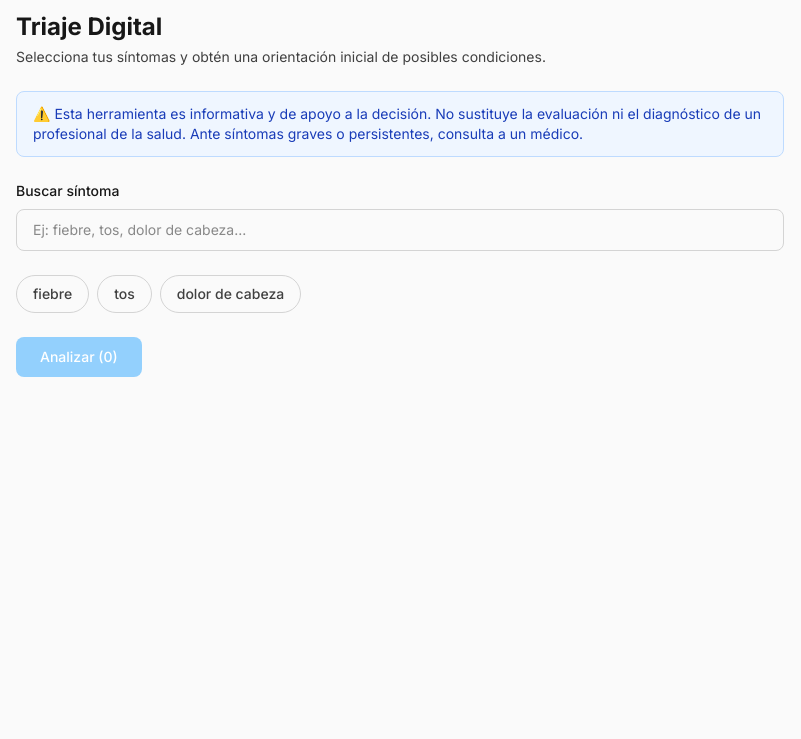
Test case: TriageForm › muestra el estado vacío cuando no hay coincidencias
Click the button "fiebre" at (53, 294), box [16,275,89,313]
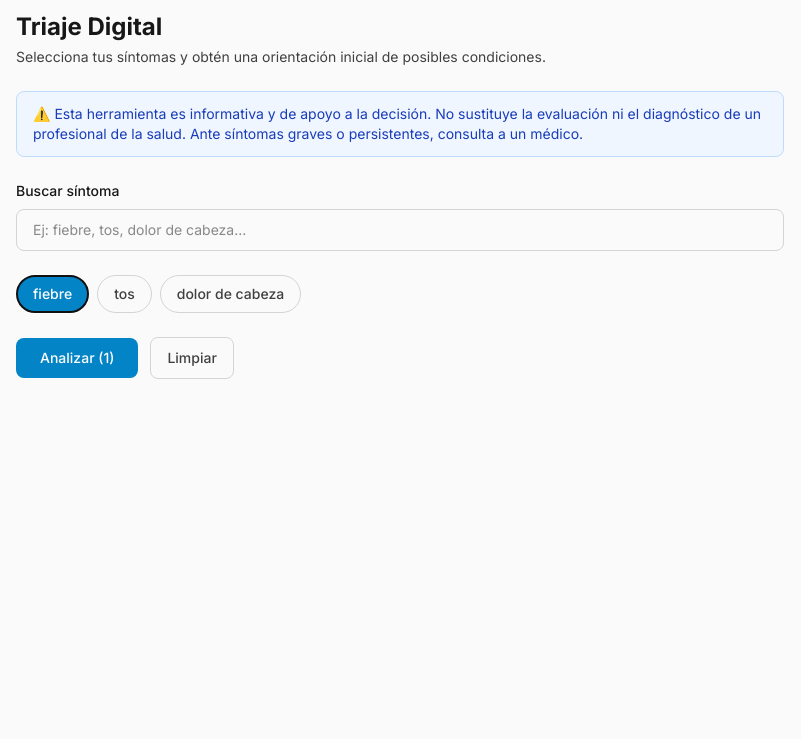
Click the button "Analizar (1)" at (77, 358), box [16,338,138,378]
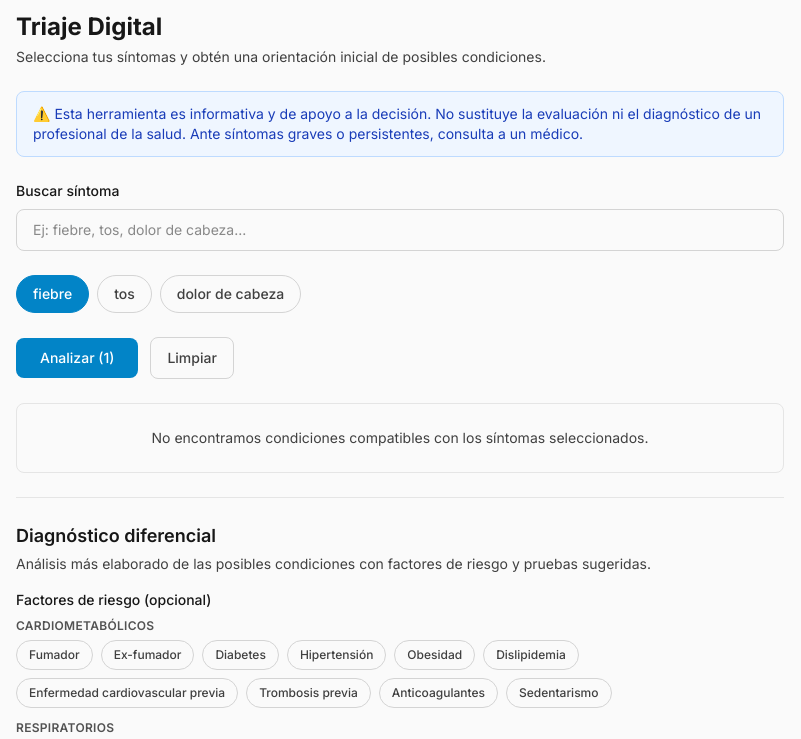
Now the text "No encontramos condiciones compatibles" is shown, box [152,429,648,446]
